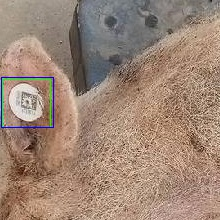text: (2, 79, 50, 127)
